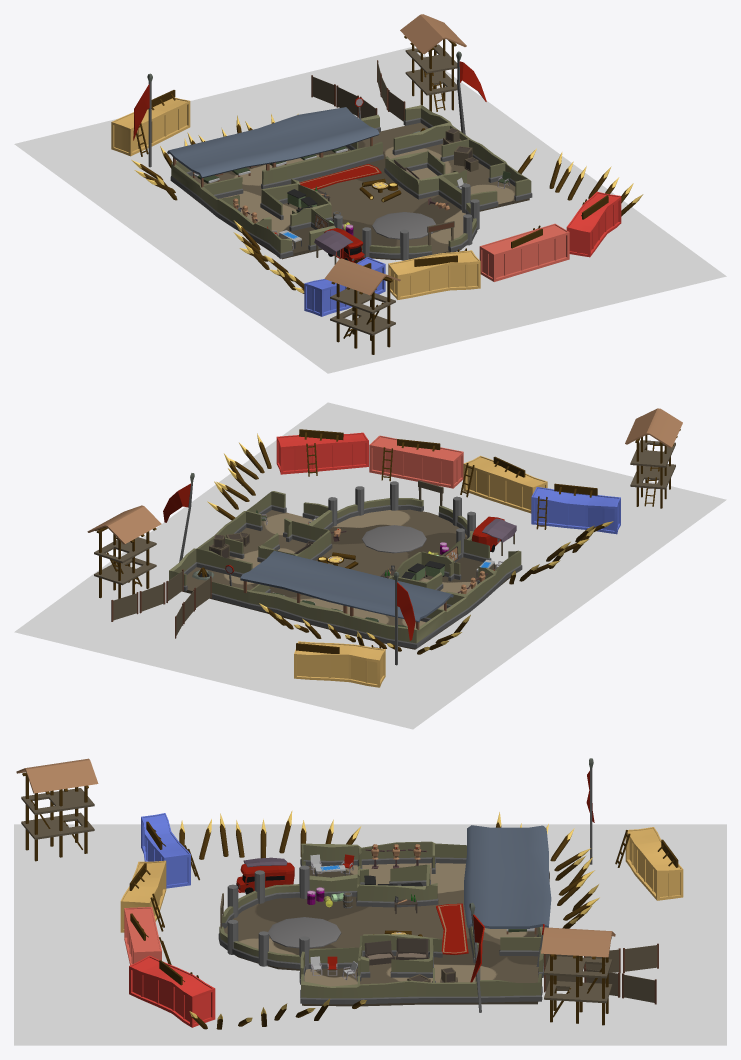
File: A simple camp.fbx
The picture shows the model from 3 angles, top to bottom: view 1: azimuth 30°, elevation 25°; view 2: azimuth 150°, elevation 25°; view 3: azimuth 270°, elevation 25°; orthographic projection. The views are drawn at different scales.
Parts seen in each view (by area): view 1: Plane.022, Plane.013, Cube.039, Plane.015, Cube.073, Cube.042, Cube.041, Cube.022, Cylinder.013, Circle.001, Cylinder.040, Cylinder.026 (+6 smaller); view 2: Plane.022, Plane.013, Cube.039, Plane.015, Cube.073, Cube.041, Cube.022, Cube.042, Circle.001, Cylinder.013, Cylinder.026, Cylinder.029 (+8 smaller); view 3: Plane.022, Plane.013, Plane.015, Cube.039, Cube.073, Cube.042, Cube.041, Cube.022, Cylinder.013, Circle.001, Cylinder.029, Cylinder.014 (+9 smaller).
Part boxes in pixels (x1,y1,x2,y2): Plane.022: [14, 47, 726, 373]; Plane.013: [170, 105, 532, 258]; Cube.039: [304, 191, 621, 316]; Plane.015: [184, 122, 529, 260]; Cube.073: [167, 107, 379, 187]; Cube.042: [324, 258, 400, 354]; Cube.041: [400, 14, 466, 111]; Cube.022: [111, 90, 190, 156]; Cylinder.013: [334, 184, 479, 260]; Circle.001: [372, 212, 435, 239]; Cylinder.040: [314, 228, 364, 264]; Cylinder.026: [517, 148, 643, 216]; Plane.022: [14, 402, 726, 729]; Plane.013: [169, 491, 522, 648]; Cube.039: [276, 429, 620, 534]; Plane.015: [183, 509, 510, 649]; Cube.073: [240, 550, 453, 630]; Cube.041: [87, 505, 161, 598]; Cube.022: [294, 641, 385, 687]; Cube.042: [625, 408, 682, 508]; Circle.001: [362, 525, 426, 553]; Cylinder.013: [328, 481, 475, 557]; Cylinder.026: [207, 433, 271, 520]; Cylinder.029: [259, 603, 470, 654]; Plane.022: [14, 824, 726, 1045]; Plane.013: [218, 841, 549, 1004]; Plane.015: [224, 863, 538, 1006]; Cube.039: [120, 813, 215, 1027]; Cube.073: [464, 825, 551, 928]; Cube.042: [16, 758, 98, 861]; Cube.041: [541, 927, 615, 1025]; Cube.022: [615, 827, 683, 900]; Cylinder.013: [227, 865, 309, 969]; Circle.001: [268, 917, 341, 948]; Cylinder.029: [496, 812, 599, 928]; Cylinder.014: [179, 810, 361, 859].
Size of the model in its own units: 5588 by 1269 by 7614.
